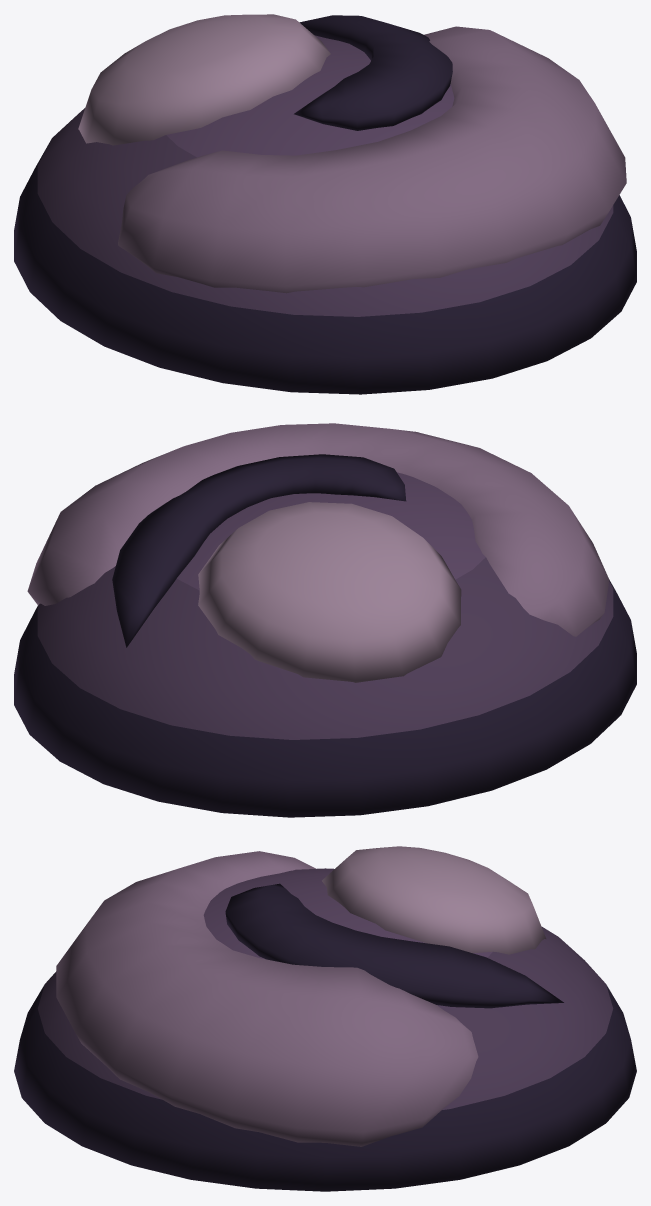
The model's file is newshm-117-f2.glb.
3 views of the same model, one above another, from view 1: azimuth 30°, elevation 25°; view 2: azimuth 150°, elevation 25°; view 3: azimuth 270°, elevation 25° (orthographic). The views are drawn at different scales.
Parts seen in each view (by area): view 1: newshm-117-f2; view 2: newshm-117-f2; view 3: newshm-117-f2.
Boxes of the visible parts, left/top/right/bottom form: newshm-117-f2: left=14, top=14, right=636, bottom=394; newshm-117-f2: left=14, top=423, right=636, bottom=817; newshm-117-f2: left=14, top=846, right=636, bottom=1191.
Bounding box in the file's own units: 1.27 × 0.4584 × 1.38.
